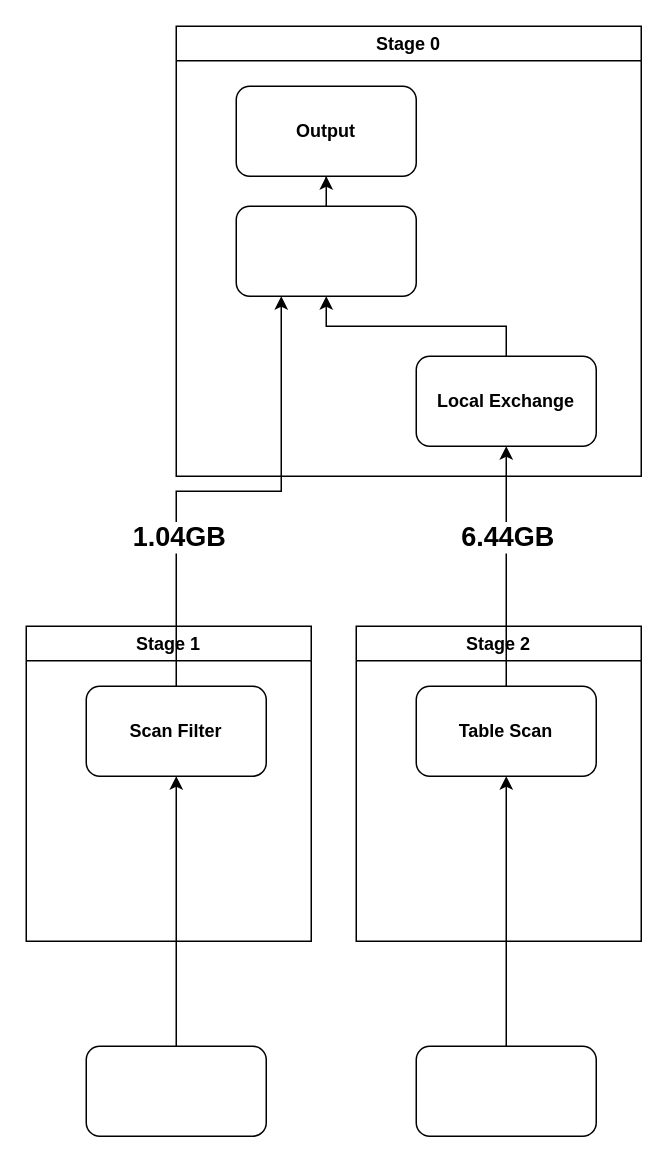
Some shapes in this 668 by 1163 pixel diagram are drawn without their labels. The centre of each missing label's shape, as x and y in pixels:
Inner Join: (x=325, y=250)
Part: (x=505, y=1090)
PartSupp: (x=175, y=1090)
